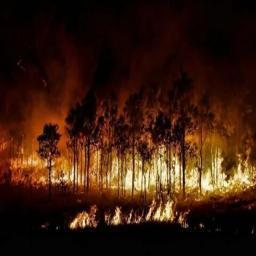Low smoke: (0, 43, 253, 151)
Medium fire: (3, 109, 255, 231)
